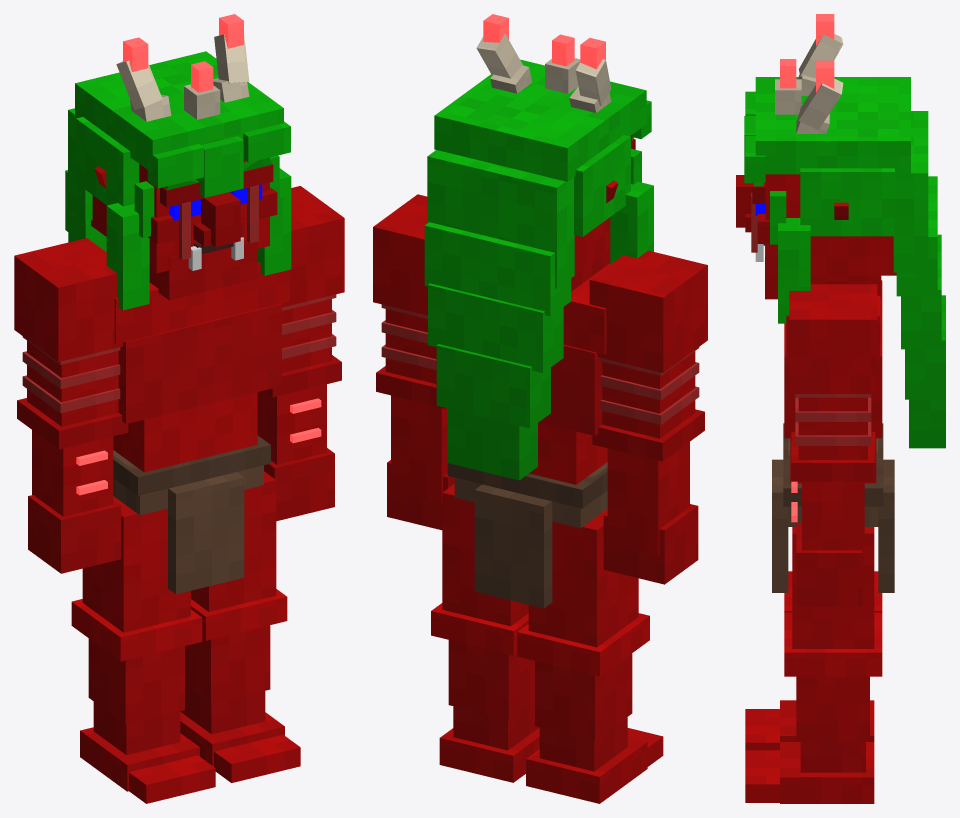
The model's file is kijin_s0_evo2.glb.
3 views of the same model, side by side, from view 1: azimuth 30°, elevation 25°; view 2: azimuth 150°, elevation 25°; view 3: azimuth 270°, elevation 25° (orthographic).
Visible parts, largest first — view 1: Head, Torso, ArmR, LegR, LegL, ArmL; view 2: Head, ArmR, LegR, Torso, LegL, ArmL; view 3: Head, ArmL, LegL, Torso, LegR.
Part boxes in pixels (left/top/right/bottom): Head: left=65, top=14, right=291, bottom=310; Torso: left=113, top=262, right=289, bottom=594; ArmR: left=14, top=238, right=128, bottom=573; LegR: left=71, top=496, right=215, bottom=803; LegL: left=180, top=471, right=300, bottom=782; ArmL: left=257, top=186, right=344, bottom=521; Head: left=424, top=14, right=653, bottom=480; ArmR: left=589, top=250, right=707, bottom=584; LegR: left=517, top=509, right=663, bottom=803; Torso: left=436, top=264, right=609, bottom=608; LegL: left=431, top=484, right=539, bottom=782; ArmL: left=373, top=194, right=454, bottom=530; Head: left=736, top=14, right=945, bottom=448; ArmL: left=789, top=284, right=877, bottom=606; LegL: left=745, top=527, right=882, bottom=803; Torso: left=772, top=280, right=894, bottom=592; LegR: left=745, top=571, right=882, bottom=750.
Bounding box in the file's own units: 0.807 × 1.95 × 0.5125.
27 materials, 27 textured.
